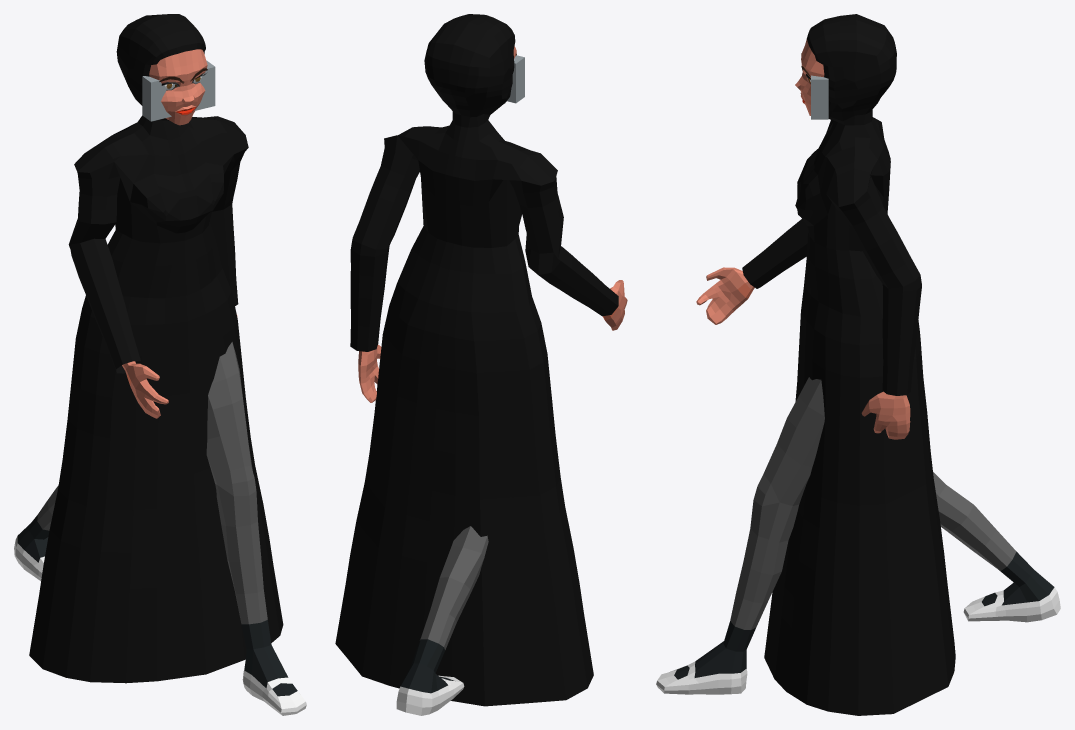
Rendered from TeacherFemale_Walk_Mask.fbx.
3 renders of one model, left to right at view 1: azimuth 30°, elevation 25°; view 2: azimuth 150°, elevation 25°; view 3: azimuth 270°, elevation 25°, orthographic.
Visible parts, largest first — view 1: TeacherFemale_Walk_Mask; view 2: TeacherFemale_Walk_Mask; view 3: TeacherFemale_Walk_Mask.
Boxes of the visible parts, bbox=[...] form: TeacherFemale_Walk_Mask: bbox=[14, 14, 306, 715]; TeacherFemale_Walk_Mask: bbox=[335, 14, 627, 715]; TeacherFemale_Walk_Mask: bbox=[656, 14, 1060, 715].
Size of the model in its own units: 0.3457 by 0.8973 by 0.5063.
